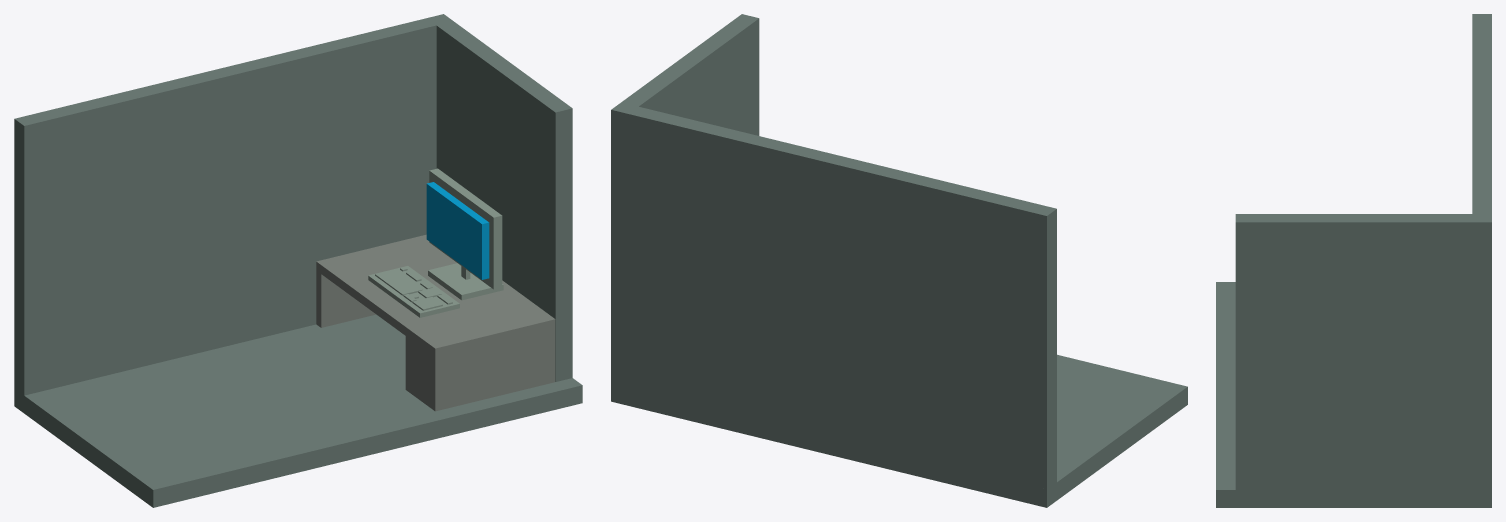
File: Company.fbx
3 views of the same model, side by side, from view 1: azimuth 30°, elevation 25°; view 2: azimuth 150°, elevation 25°; view 3: azimuth 270°, elevation 25° (orthographic). The views are drawn at different scales.
Parts seen in each view (by area): view 1: ST_Company, ST_Company.001; view 2: ST_Company; view 3: ST_Company.
Boxes of the visible parts, x1,y1,x2,y2 form: ST_Company: (14,14,582,507); ST_Company.001: (426,182,489,279); ST_Company: (611,14,1187,507); ST_Company: (1216,14,1491,507).
Bounding box in the file's own units: 500 × 320 × 280.
